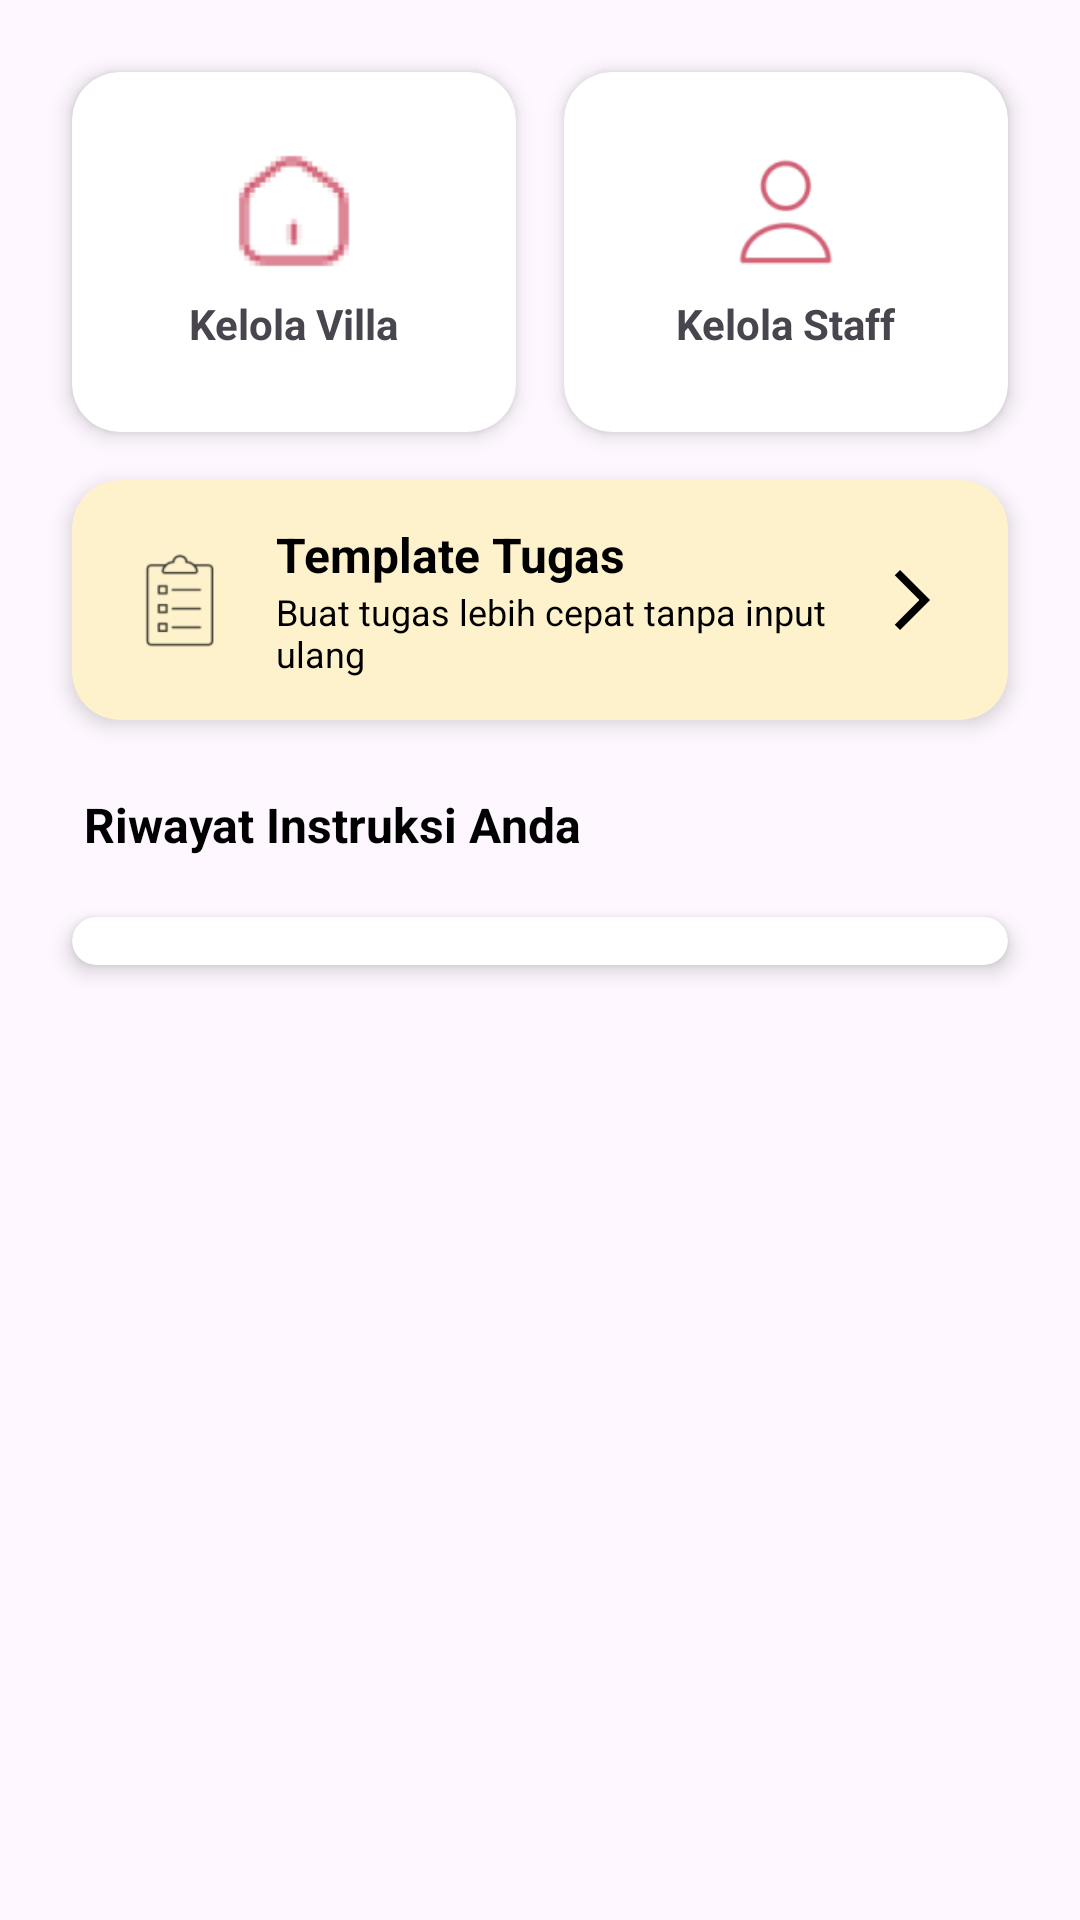

Named icons in this screenshot (1080*1920) and their bounding boxes, BBox(x1, y1, x2, y2):
chevron right: BBox(895, 570, 930, 630)
home: BBox(239, 156, 349, 266)
profile: BBox(739, 160, 832, 264)
task: BBox(146, 554, 214, 647)
